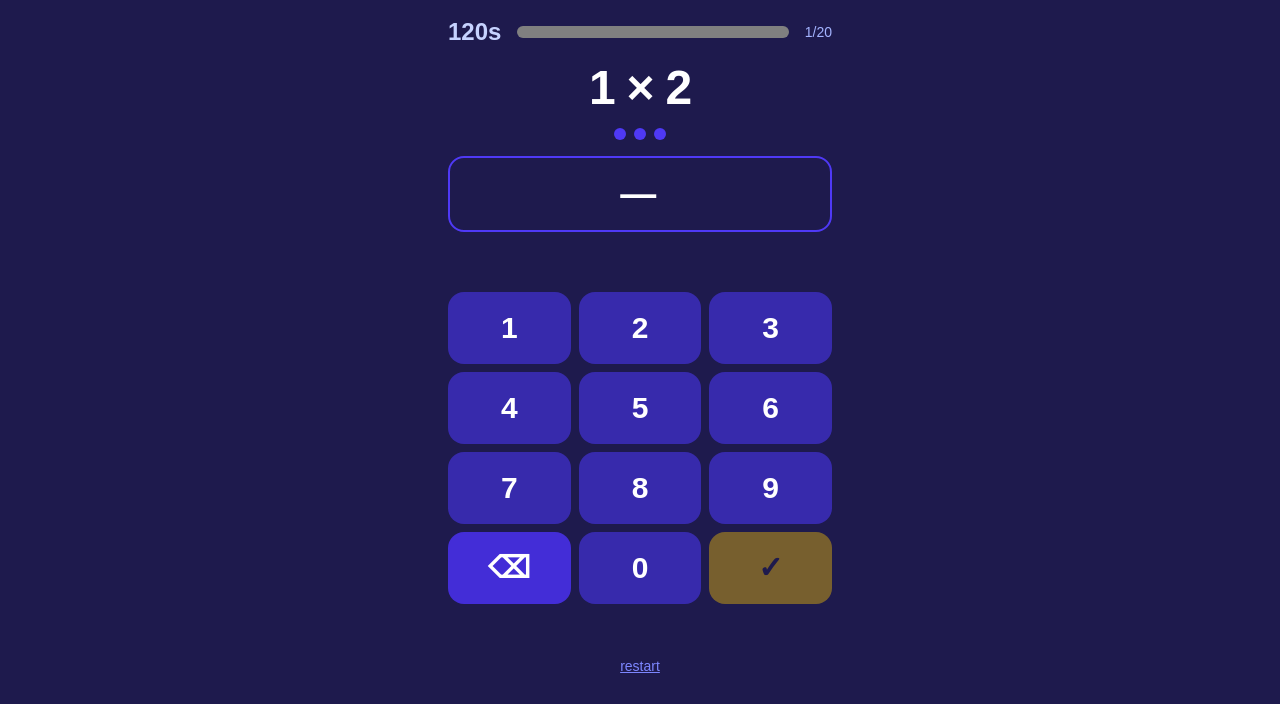
Test case: playing phase (playerId in URL) › 3 wrong answers shows reveal feedback with the correct answer
Replace the text in the field with id "capture-input" with "99" at (640, 194), box [448,156,832,232]
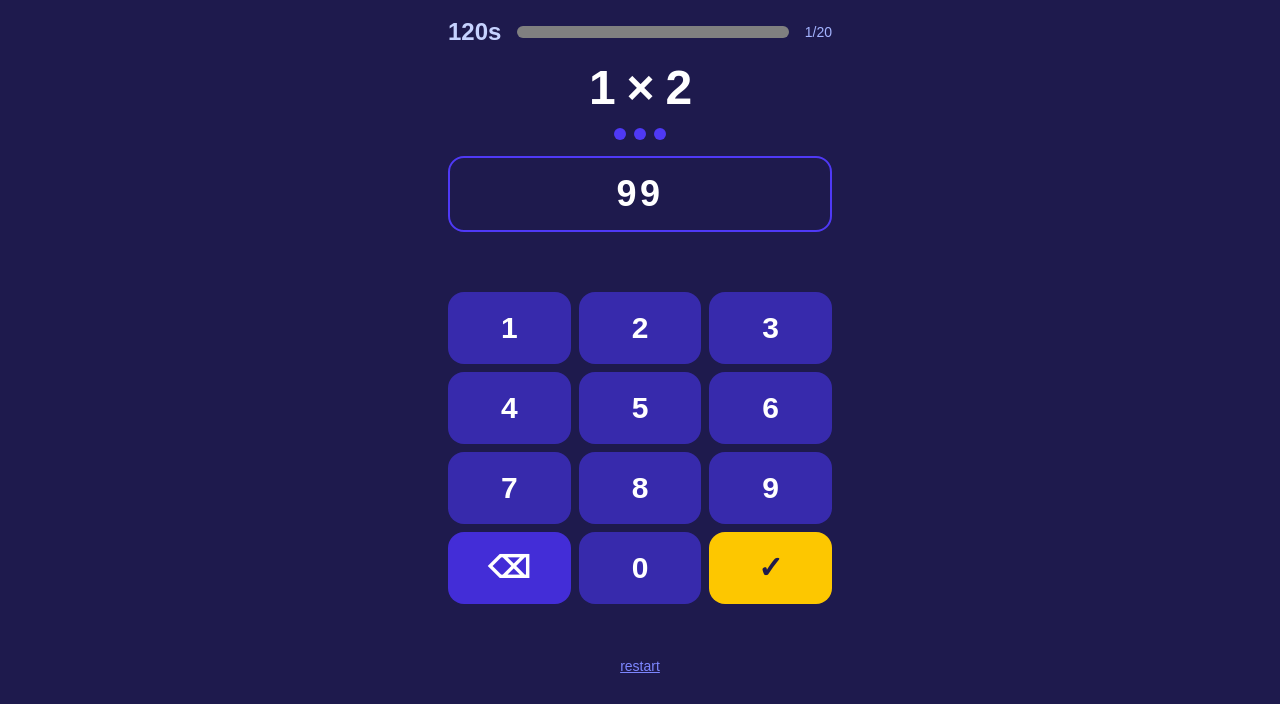
Press Enter in the field with id "capture-input", box [448,156,832,232]
Wait 700 ms
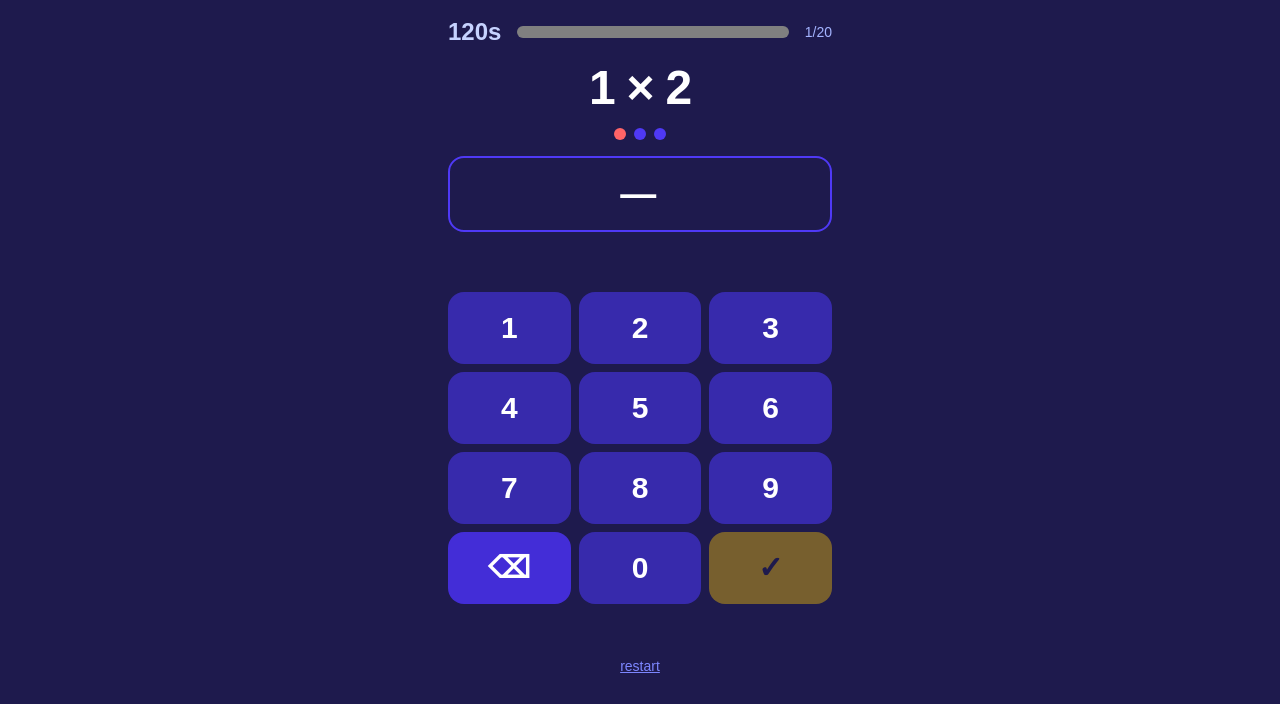
Replace the text in the field with id "capture-input" with "99" at (640, 194), box [448,156,832,232]
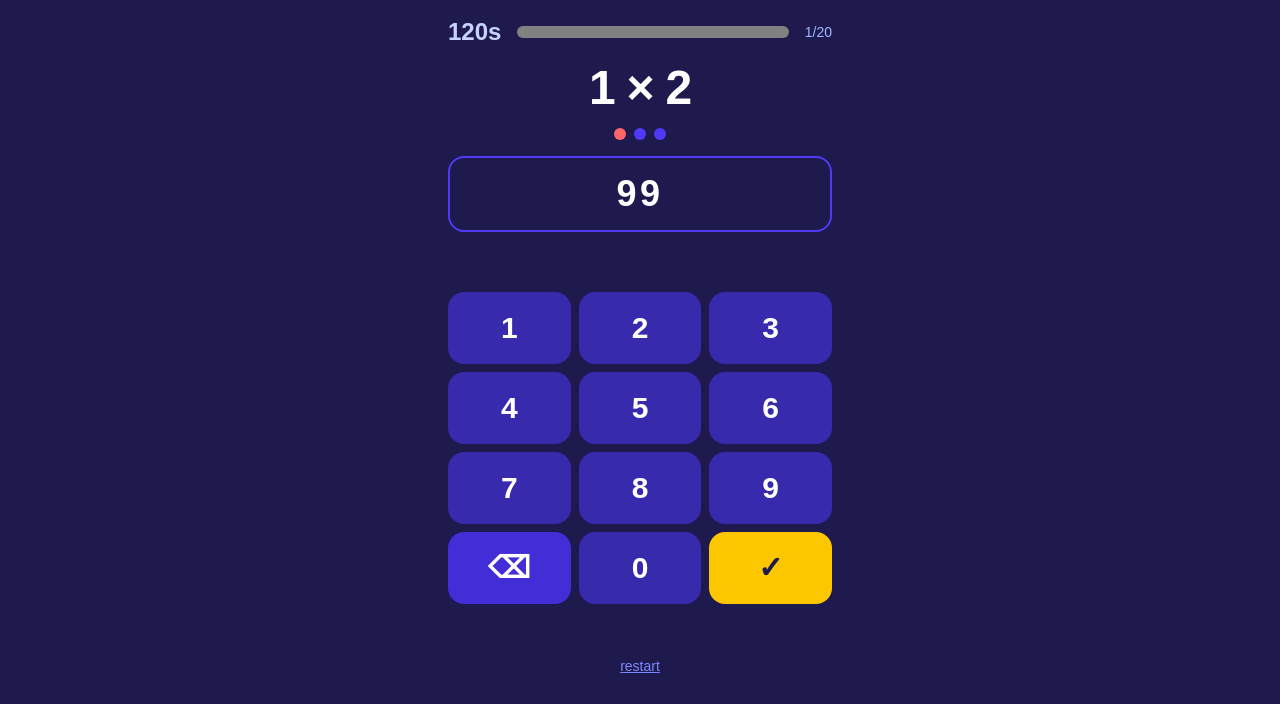
Press Enter in the field with id "capture-input", box [448,156,832,232]
Wait 700 ms
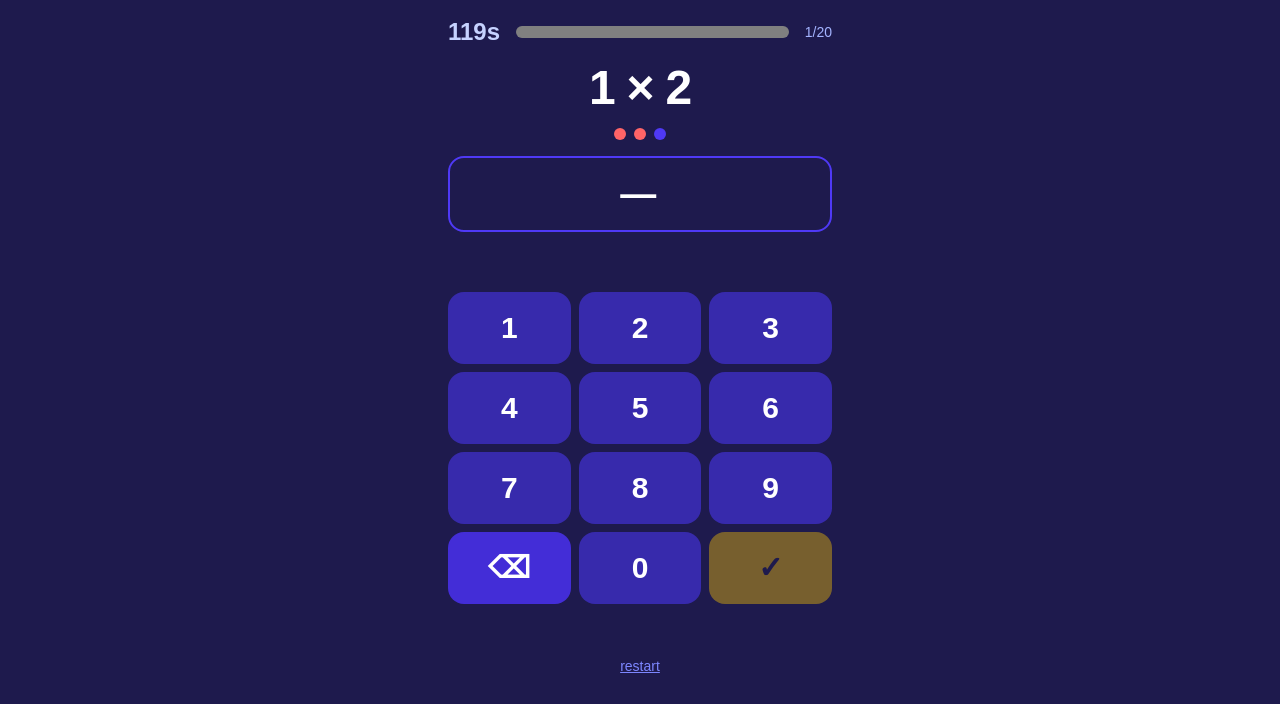
Replace the text in the field with id "capture-input" with "99" at (640, 194), box [448,156,832,232]
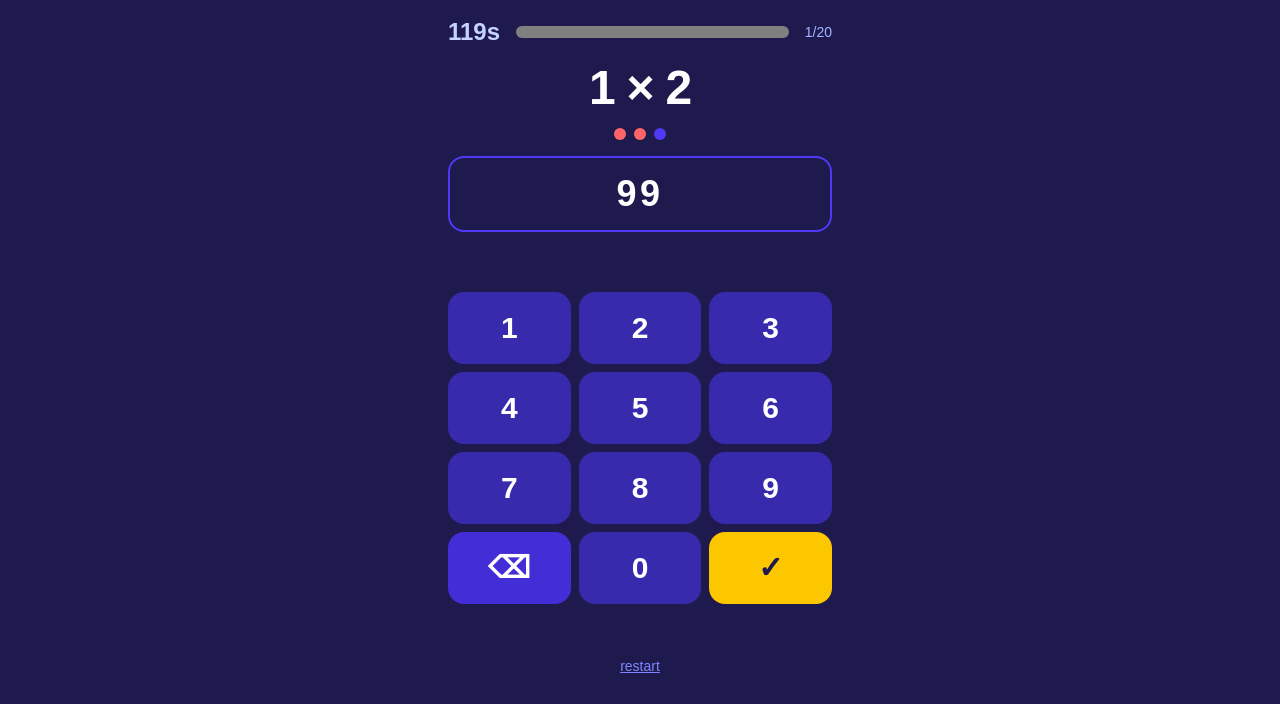
Press Enter in the field with id "capture-input", box [448,156,832,232]
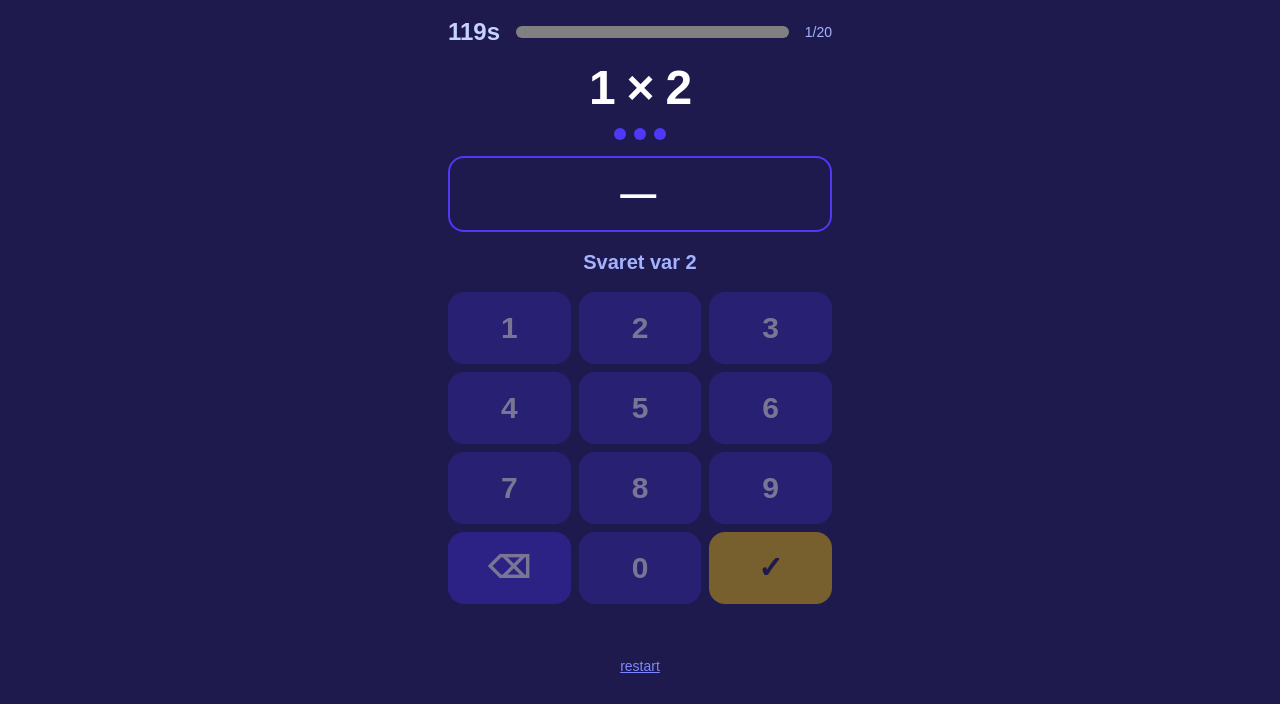
Result: the message reads "Svaret var 2" at [583,251,697,273]
